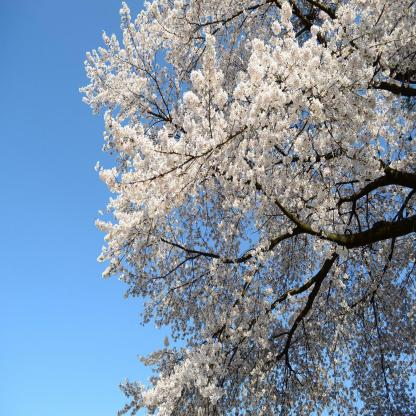Someiyoshino: (59, 2, 414, 415)
